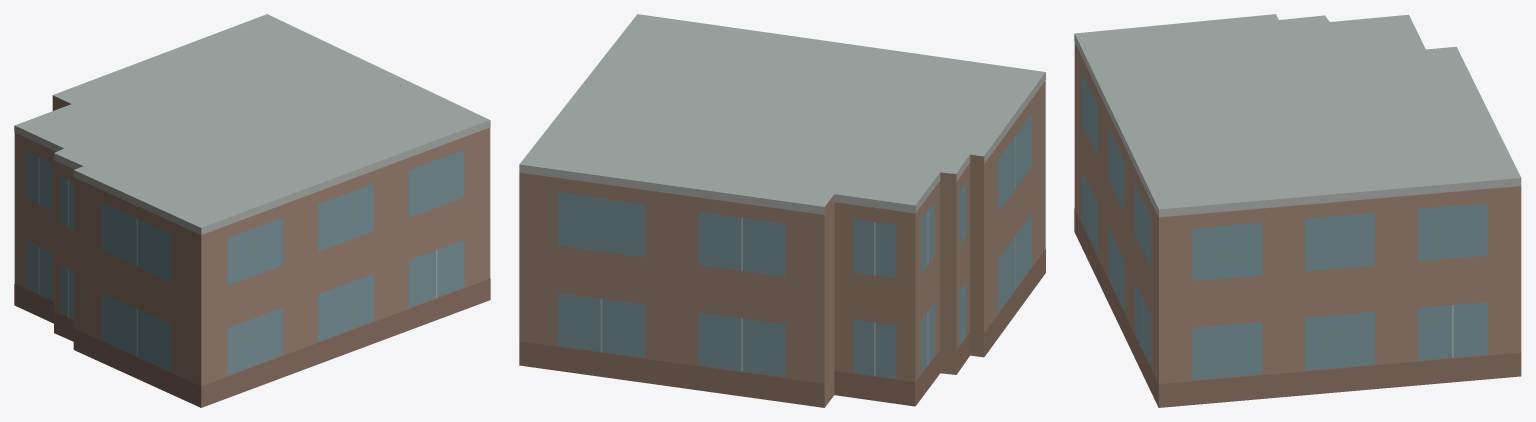
Rendered from survey-upis-32820251.glb.
3 views of the same model, side by side, from view 1: azimuth 30°, elevation 25°; view 2: azimuth 150°, elevation 25°; view 3: azimuth 270°, elevation 25° (orthographic). The views are drawn at different scales.
Parts seen in each view (by area): view 1: survey-upis-32820251.tmp; view 2: survey-upis-32820251.tmp; view 3: survey-upis-32820251.tmp.
Part boxes in pixels (x1=…): survey-upis-32820251.tmp: x1=14, y1=14, x2=490, y2=407; survey-upis-32820251.tmp: x1=519, y1=14, x2=1045, y2=407; survey-upis-32820251.tmp: x1=1074, y1=14, x2=1521, y2=407.
Bounding box in the file's own units: 12.91 × 6.1 × 12.47.
